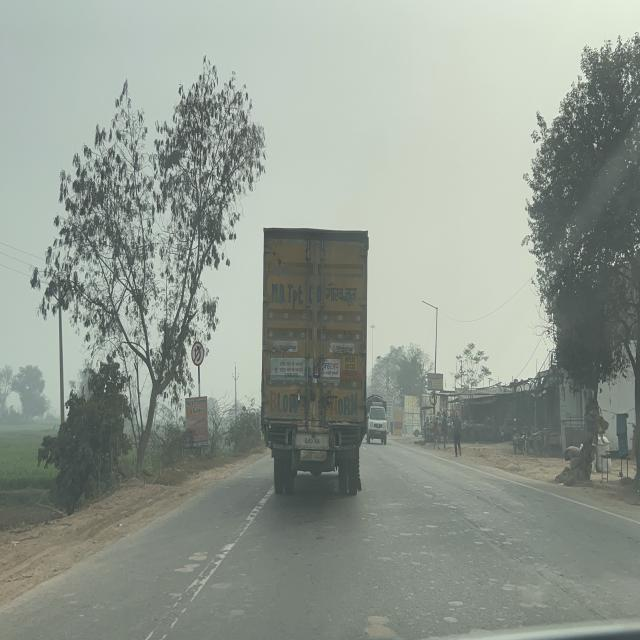OVERTAKING_PROHIBITED: (191, 341, 205, 366)
